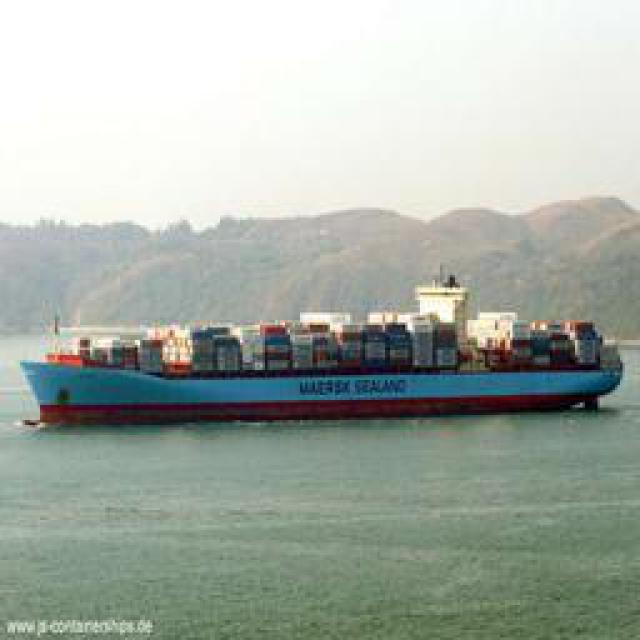Ship: (35, 307, 628, 420)
